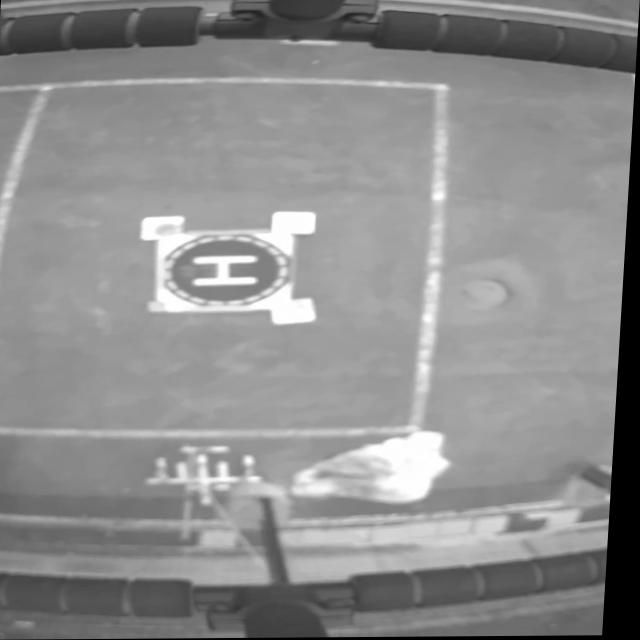Helipad: (193, 256, 260, 286)
